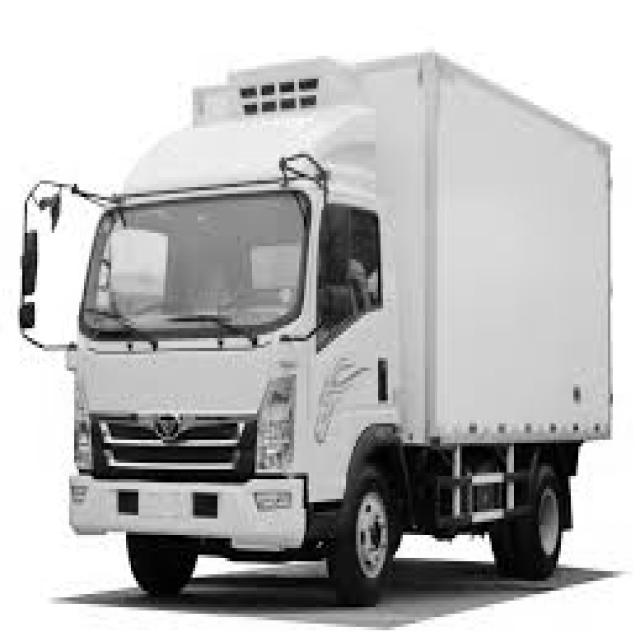truck: (10, 124, 440, 613)
